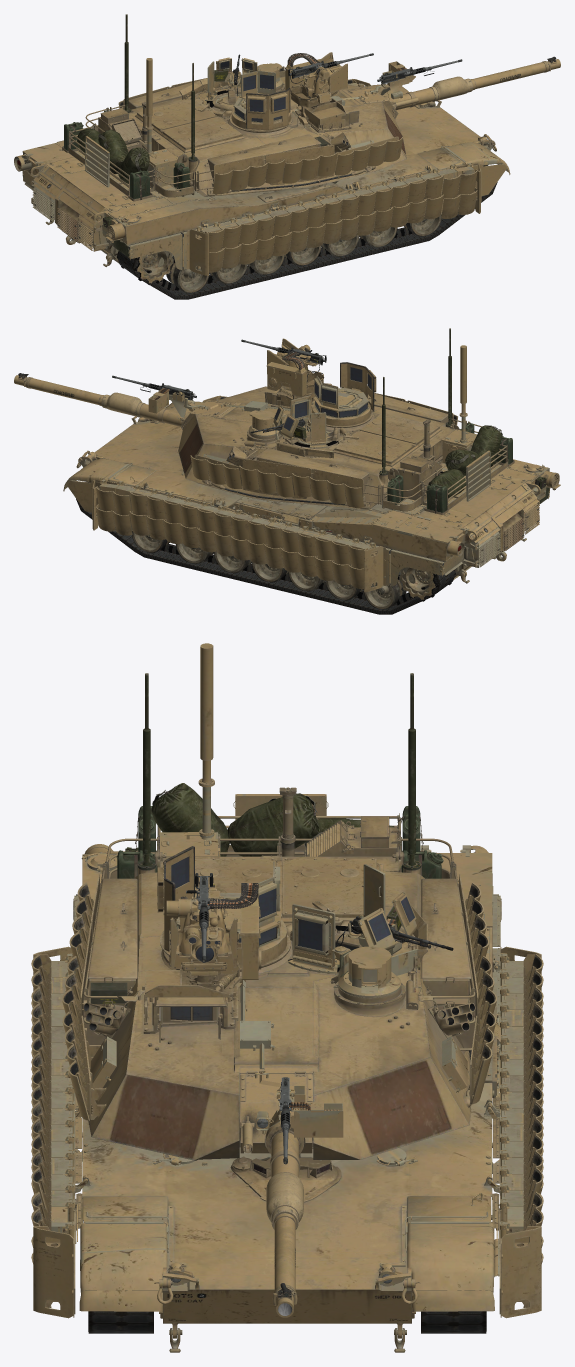
The model's file is tank.glb.
The picture shows the model from 3 angles, top to bottom: view 1: azimuth 30°, elevation 25°; view 2: azimuth 150°, elevation 25°; view 3: azimuth 270°, elevation 25°; orthographic projection. The views are drawn at different scales.
Visible parts, largest first — view 1: Object_21, Object_42, Object_37, Object_10, Object_40, Object_5, Object_3, Object_20, Object_17, Object_35, Object_41; view 2: Object_21, Object_42, Object_37, Object_10, Object_40, Object_5, Object_3, Object_20, Object_35, Object_17, Object_19, Object_41; view 3: Object_37, Object_21, Object_42, Object_10, Object_5, Object_3, Object_35, Object_40, Object_17, Object_20.
Part boxes in pixels (<box>): Object_21: <box>105,14,507,275</box>; Object_42: <box>14,100,496,293</box>; Object_37: <box>62,74,406,201</box>; Object_10: <box>22,57,510,269</box>; Object_40: <box>117,165,497,299</box>; Object_5: <box>341,56,560,119</box>; Object_3: <box>77,128,149,227</box>; Object_20: <box>63,110,189,199</box>; Object_17: <box>288,53,462,146</box>; Object_35: <box>220,61,285,122</box>; Object_41: <box>139,228,412,290</box>; Object_21: <box>66,328,560,592</box>; Object_42: <box>76,416,549,609</box>; Object_37: <box>178,383,514,514</box>; Object_10: <box>63,375,555,586</box>; Object_40: <box>76,482,455,614</box>; Object_5: <box>14,373,236,429</box>; Object_3: <box>426,425,546,498</box>; Object_20: <box>387,422,512,512</box>; Object_35: <box>274,367,375,430</box>; Object_17: <box>112,339,326,400</box>; Object_19: <box>310,463,501,524</box>; Object_41: <box>160,544,433,605</box>; Object_37: <box>83,787,475,1160</box>; Object_21: <box>31,643,543,1318</box>; Object_42: <box>75,845,500,1352</box>; Object_10: <box>50,783,524,1318</box>; Object_5: <box>239,1066,312,1317</box>; Object_3: <box>125,783,394,856</box>; Object_35: <box>158,856,414,1020</box>; Object_40: <box>88,1311,486,1333</box>; Object_17: <box>90,873,291,1164</box>; Object_20: <box>117,806,443,878</box>.
Bounding box in the file's own units: 7.06 × 3 × 3.16.
19 materials, 19 textured.
